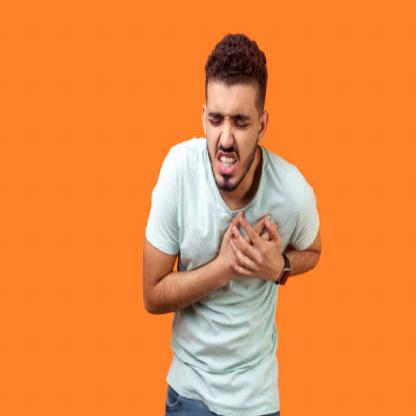pain: (203, 103, 258, 135)
